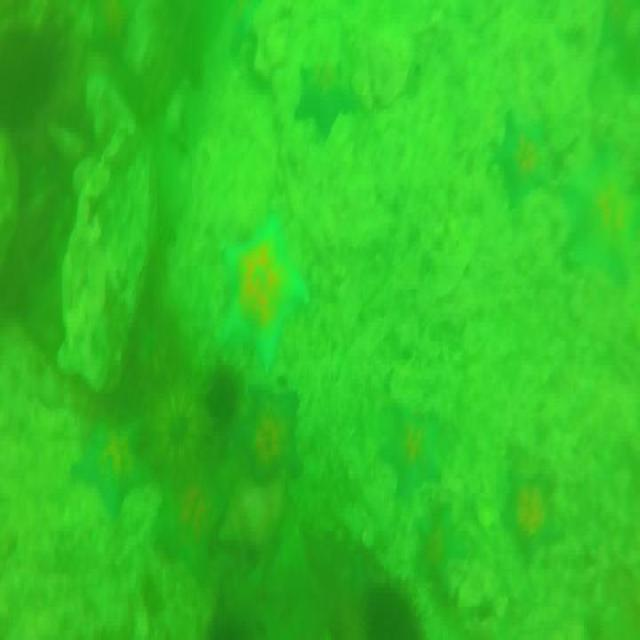echinus: (204, 366, 236, 424)
starfish: (224, 221, 310, 365), (565, 128, 640, 288), (68, 413, 158, 515), (412, 494, 476, 600), (238, 387, 300, 484), (384, 417, 444, 498), (295, 63, 357, 141), (489, 112, 544, 198), (503, 477, 551, 564)
